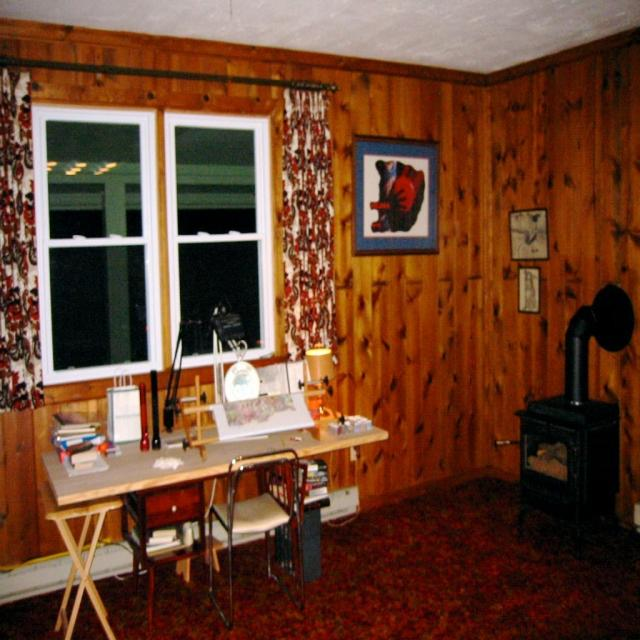chair: (206, 452, 301, 628)
desk: (35, 377, 367, 615)
